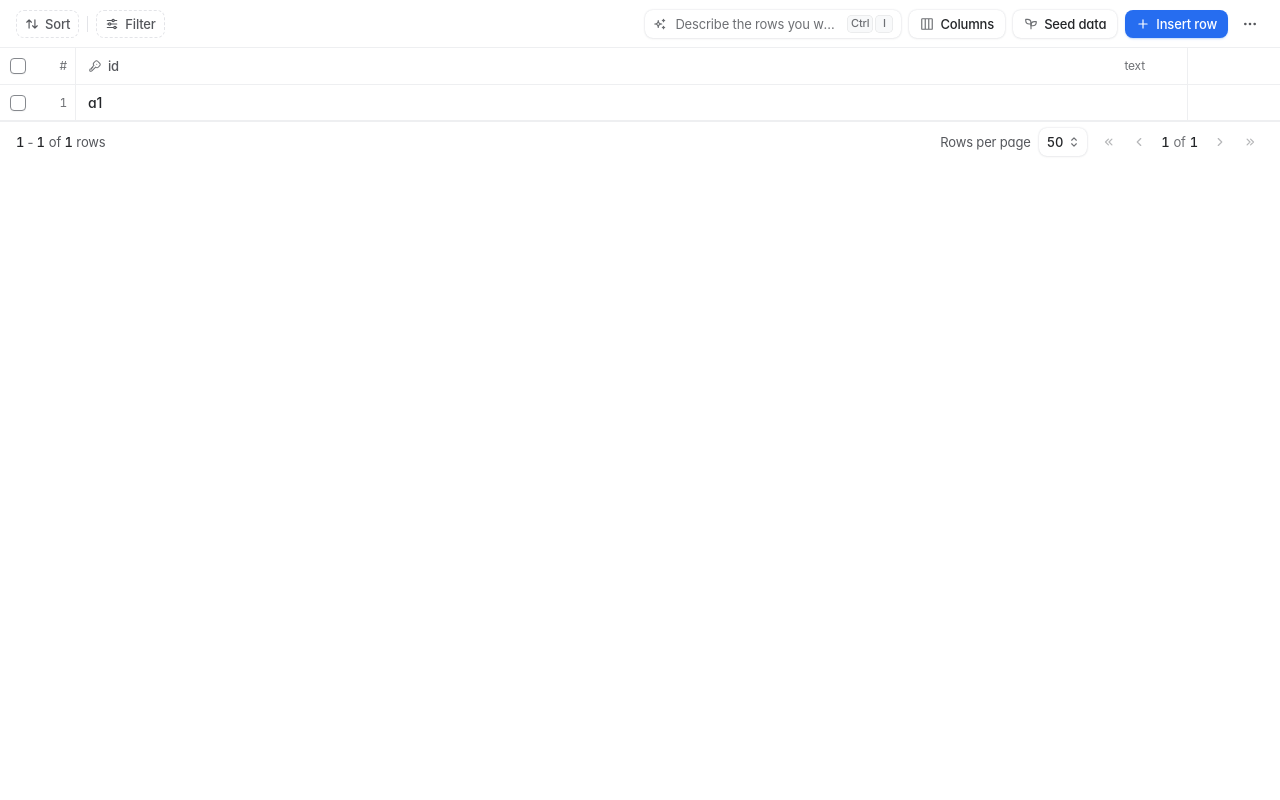
Test case: when the AI filter drops conditions it could not make executable › applies nothing and explains, rather than showing the whole table
The image size is (1280, 800).
Expected: the text "a1" is shown, [88,94,102,110]
Click the button with aria-label "natural language" at coordinates (773, 24), box [645,10,901,38]
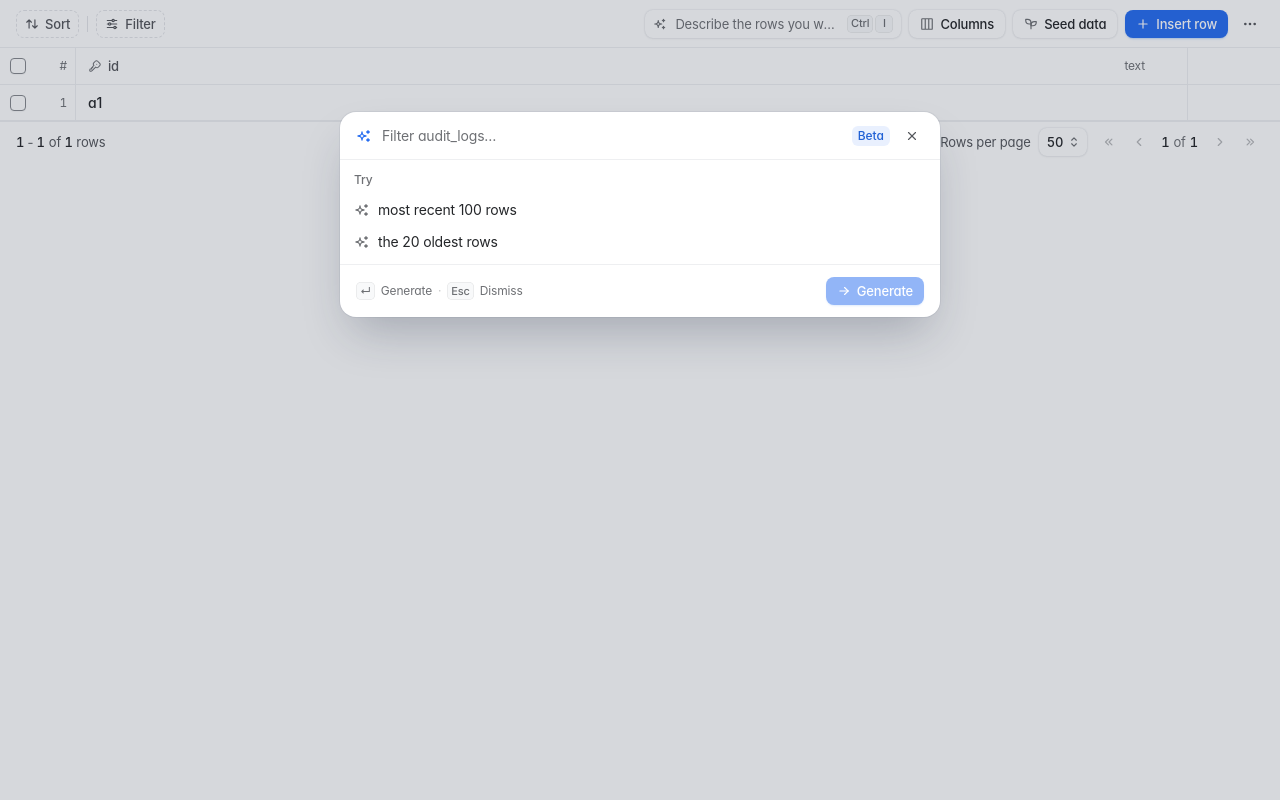
Type "rows where action is banana" into the field with placeholder "Filter audit_logs…" at coordinates (612, 136), box [382,126,842,146]
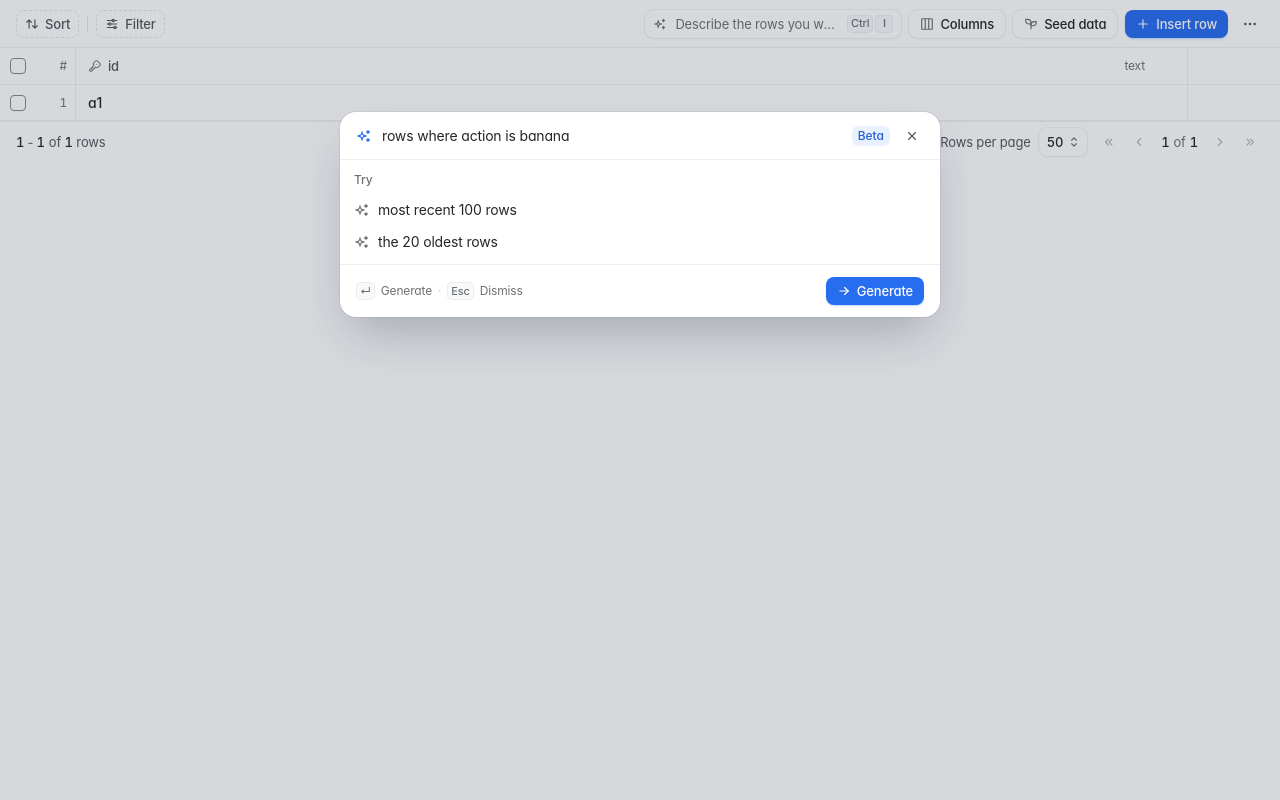
Press Enter in the field with placeholder "Filter audit_logs…", box [382,126,842,146]
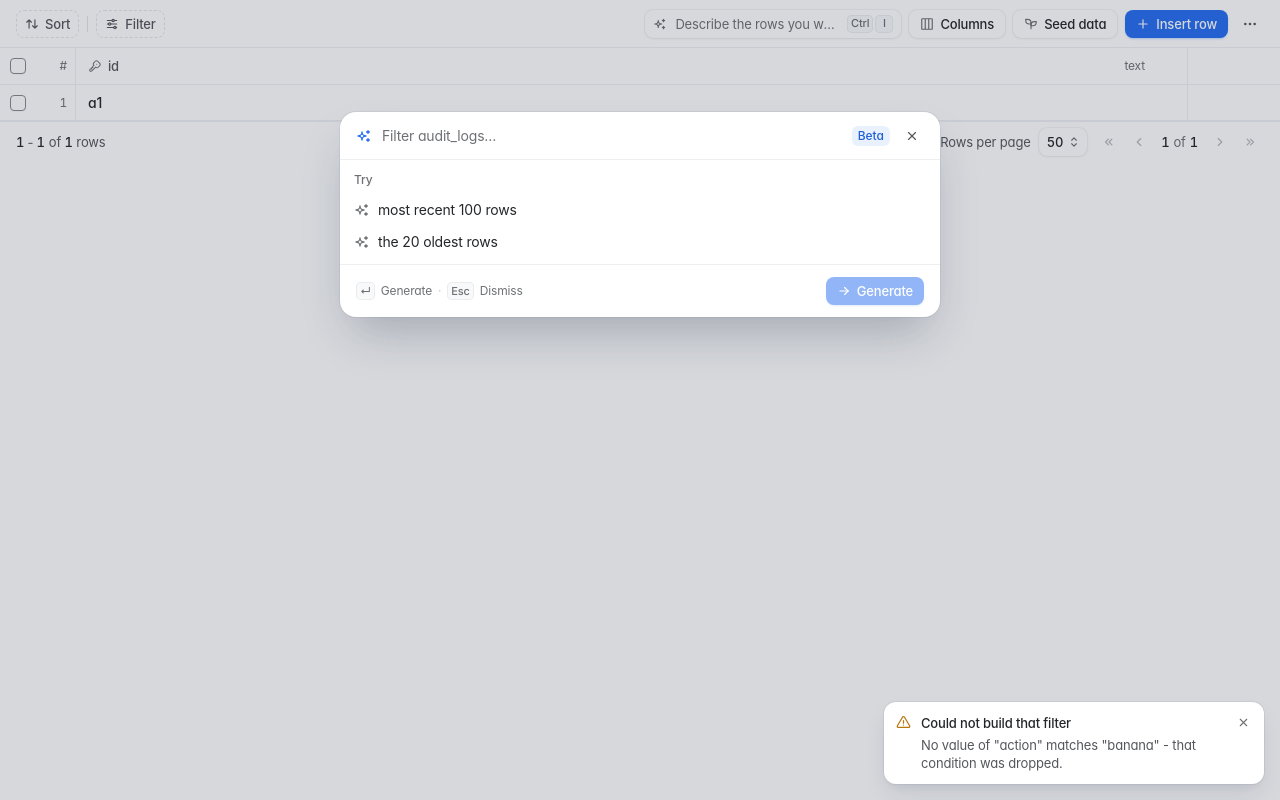
Now the field with placeholder "Filter audit_logs…" is shown, box [382,126,842,146]
Now the text "Could not build that filter" is shown, box [921,714,1071,732]
Now the text "matches \"banana\"" is shown, box [921,737,1196,771]
